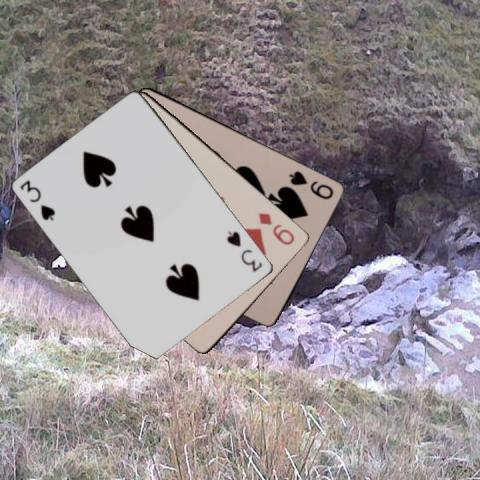3s: (224, 228, 265, 273), (18, 177, 57, 222)
9d: (255, 209, 297, 247)
9s: (287, 167, 336, 201)
